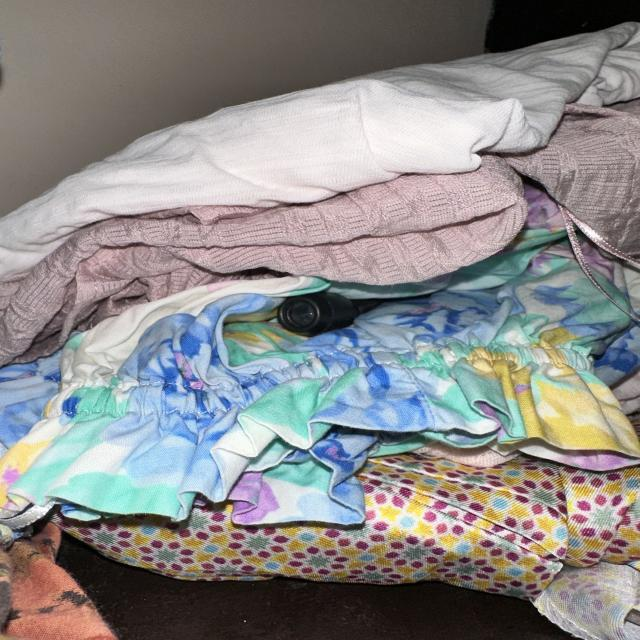hidden camera: (279, 297, 320, 332)
